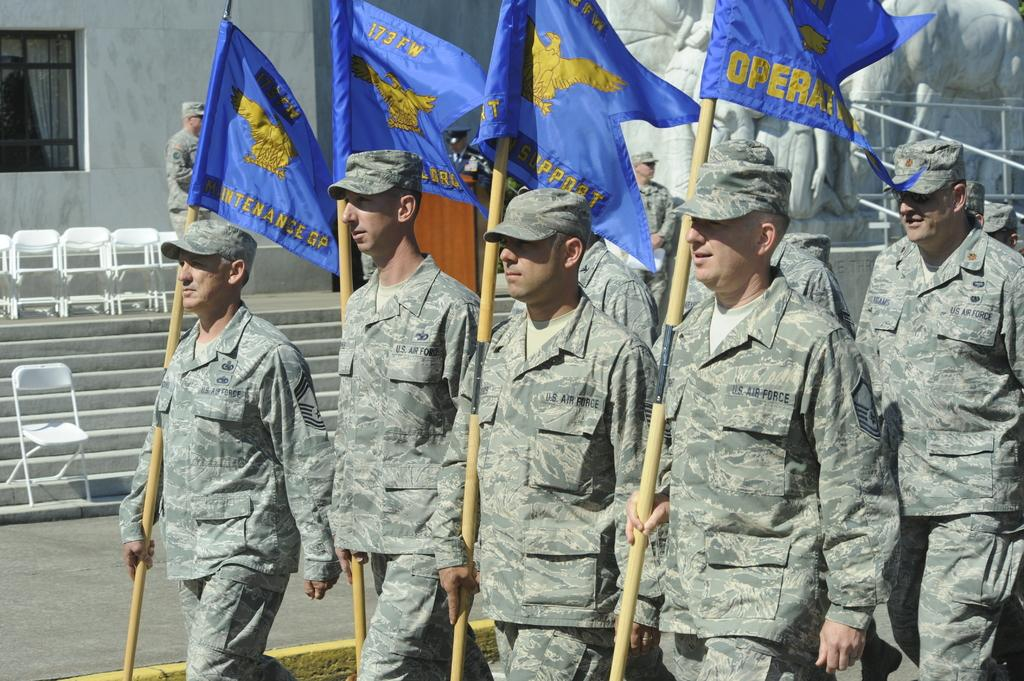Hat: (669, 162, 785, 224), (483, 187, 591, 240), (160, 220, 256, 276), (328, 146, 418, 202), (881, 136, 962, 192), (783, 230, 834, 260), (981, 202, 1017, 233), (959, 180, 987, 214), (182, 100, 208, 114), (632, 146, 656, 160)
